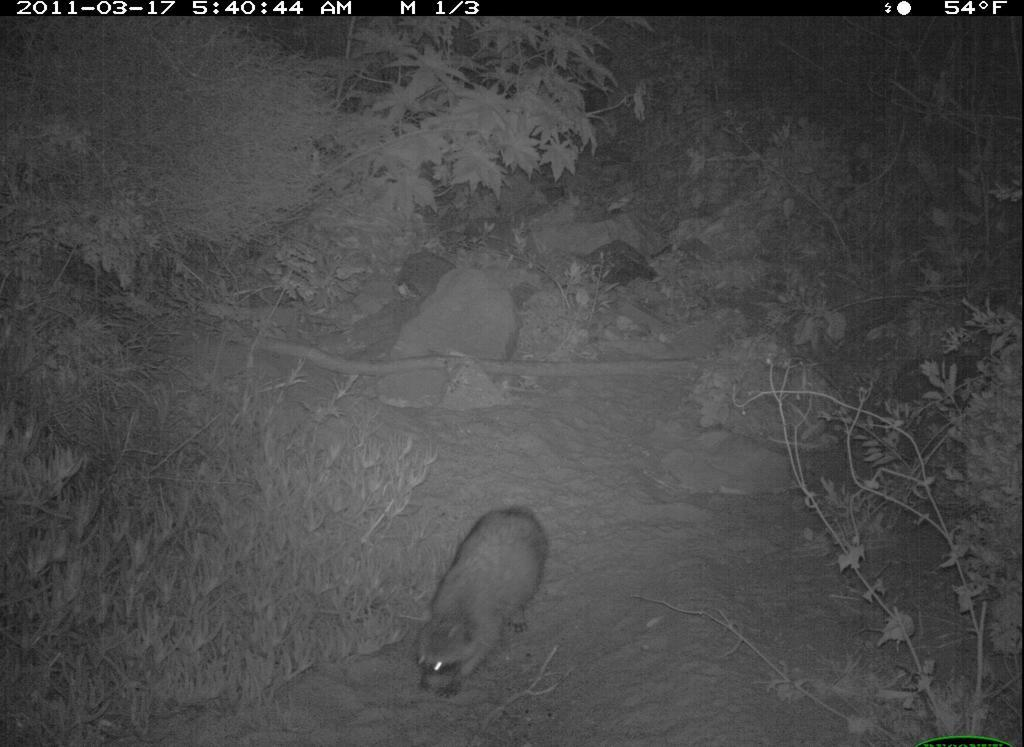raccoon: (410, 500, 561, 708)
